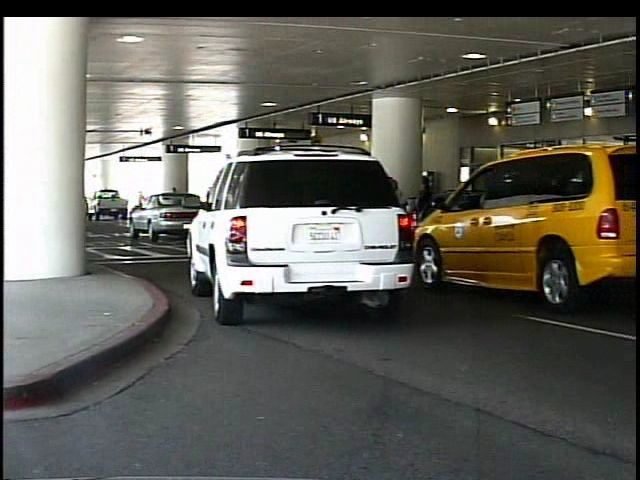person: (531, 169, 560, 261)
